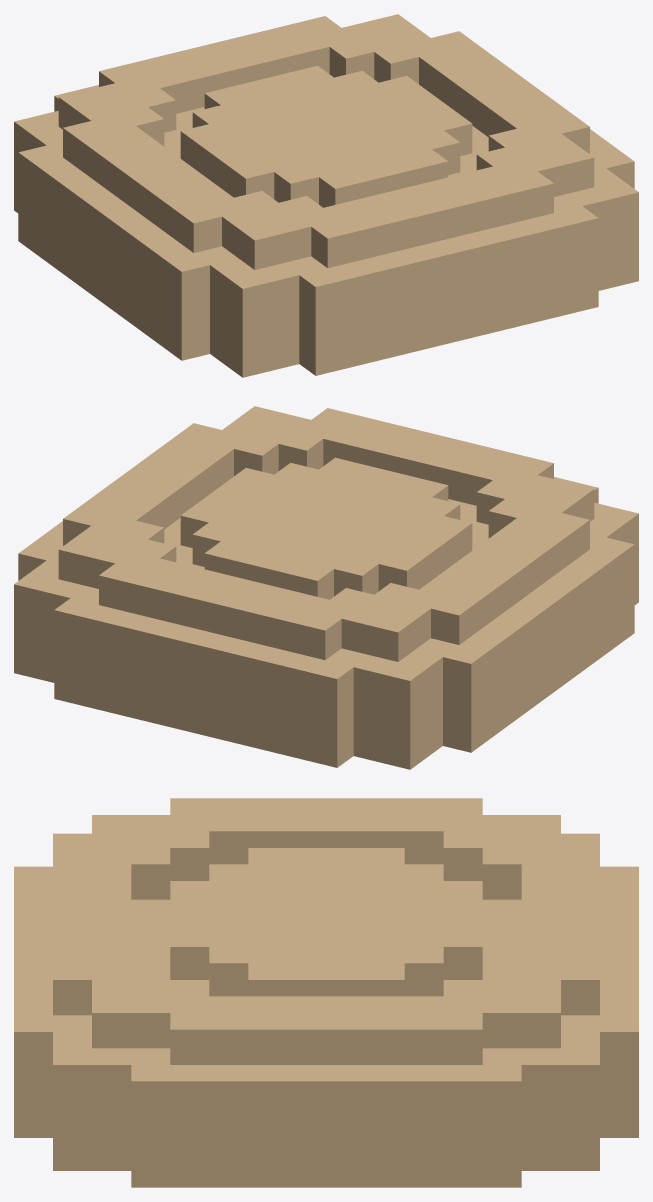
The model's file is man-v2-tan.gltf.
3 renders of one model, top to bottom at view 1: azimuth 30°, elevation 25°; view 2: azimuth 150°, elevation 25°; view 3: azimuth 270°, elevation 25°, orthographic. The views are drawn at different scales.
Visible parts, largest first — view 1: Untitled; view 2: Untitled; view 3: Untitled.
Boxes of the visible parts, left/top/right/bottom form: Untitled: left=14, top=14, right=638, bottom=377; Untitled: left=14, top=406, right=638, bottom=769; Untitled: left=14, top=798, right=638, bottom=1187.
Bounding box in the file's own units: 1.6 × 0.4 × 1.6.
1 material, 1 textured.
